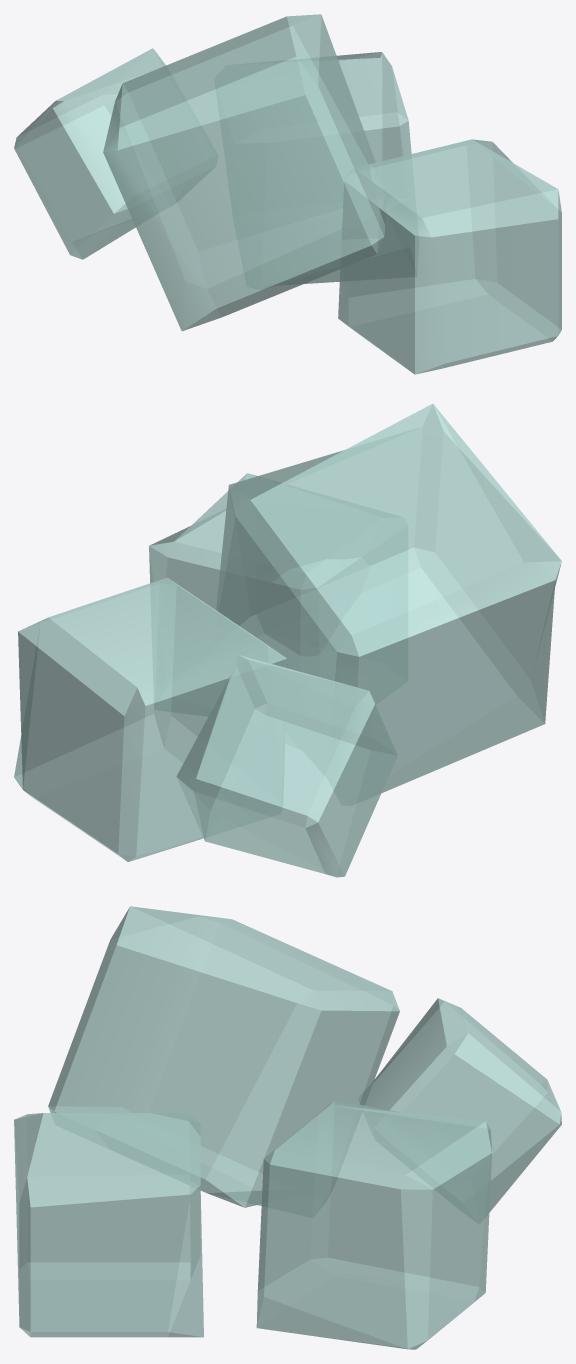
Rendered from CONJUNTO DE HIELOS.fbx.
3 renders of one model, top to bottom at view 1: azimuth 30°, elevation 25°; view 2: azimuth 150°, elevation 25°; view 3: azimuth 270°, elevation 25°, orthographic. The views are drawn at different scales.
Parts seen in each view (by area): view 1: hielo; view 2: hielo; view 3: hielo.
Boxes of the visible parts, x1=… form: hielo: x1=14, y1=14, x2=561, y2=374; hielo: x1=14, y1=403, x2=561, y2=877; hielo: x1=14, y1=906, x2=561, y2=1349.
Bounding box in the file's own units: 8.22 × 6.33 × 9.28.
